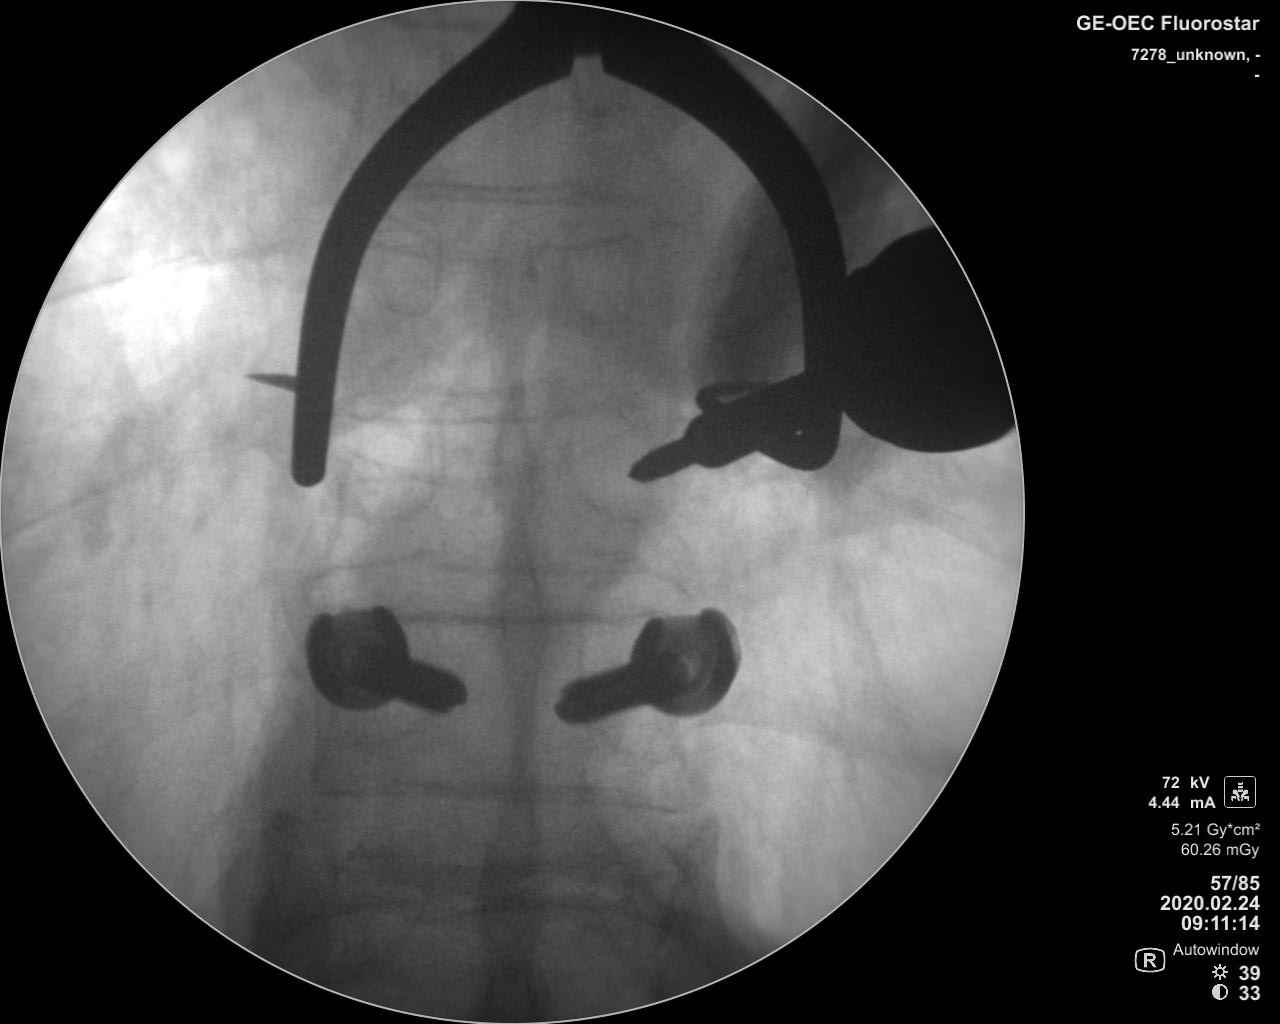eyes: (338, 401, 440, 523), (571, 421, 668, 528), (556, 223, 639, 324), (364, 218, 446, 320)
line: (346, 778, 659, 809), (348, 394, 621, 426), (347, 860, 632, 885), (417, 174, 622, 206), (347, 558, 639, 579), (399, 603, 630, 629)
nose: (476, 768, 546, 956), (486, 551, 546, 711), (482, 218, 542, 373), (482, 385, 535, 539)
